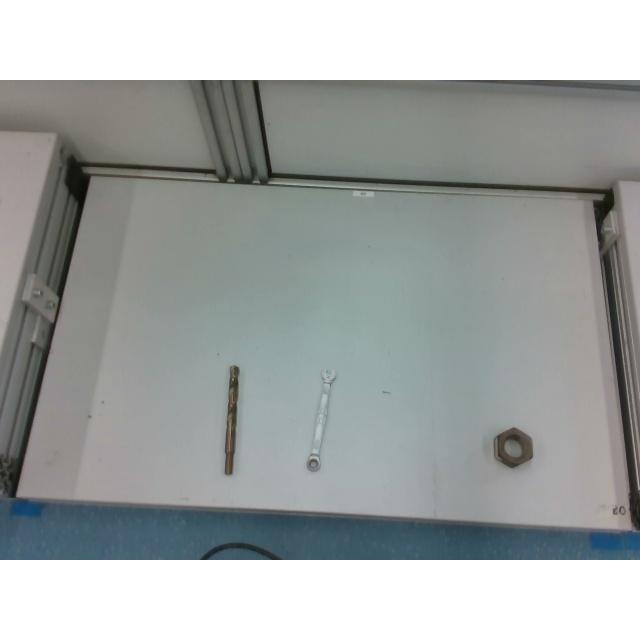Drill: (223, 366, 240, 476)
M30: (494, 428, 534, 468)
Wrench: (304, 368, 336, 472)
